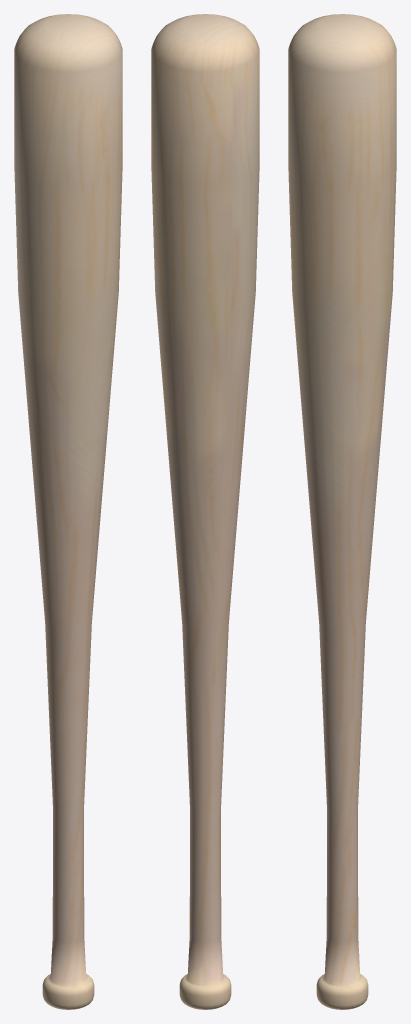
Rendered from P_Bat_.fbx.
The picture shows the model from 3 angles, left to right: view 1: azimuth 30°, elevation 25°; view 2: azimuth 210°, elevation 25°; view 3: azimuth 330°, elevation 25°; orthographic projection.
Parts seen in each view (by area): view 1: P_Bat_:P_Bat_H_4_Export_:Mesh_X_Bat; view 2: P_Bat_:P_Bat_H_4_Export_:Mesh_X_Bat; view 3: P_Bat_:P_Bat_H_4_Export_:Mesh_X_Bat.
Part boxes in pixels (box(x1,y1,x2,y2)): P_Bat_:P_Bat_H_4_Export_:Mesh_X_Bat: box(14, 14, 122, 1009); P_Bat_:P_Bat_H_4_Export_:Mesh_X_Bat: box(151, 14, 259, 1009); P_Bat_:P_Bat_H_4_Export_:Mesh_X_Bat: box(288, 14, 396, 1009).
Size of the model in its own units: 20.74 by 206 by 20.74.
